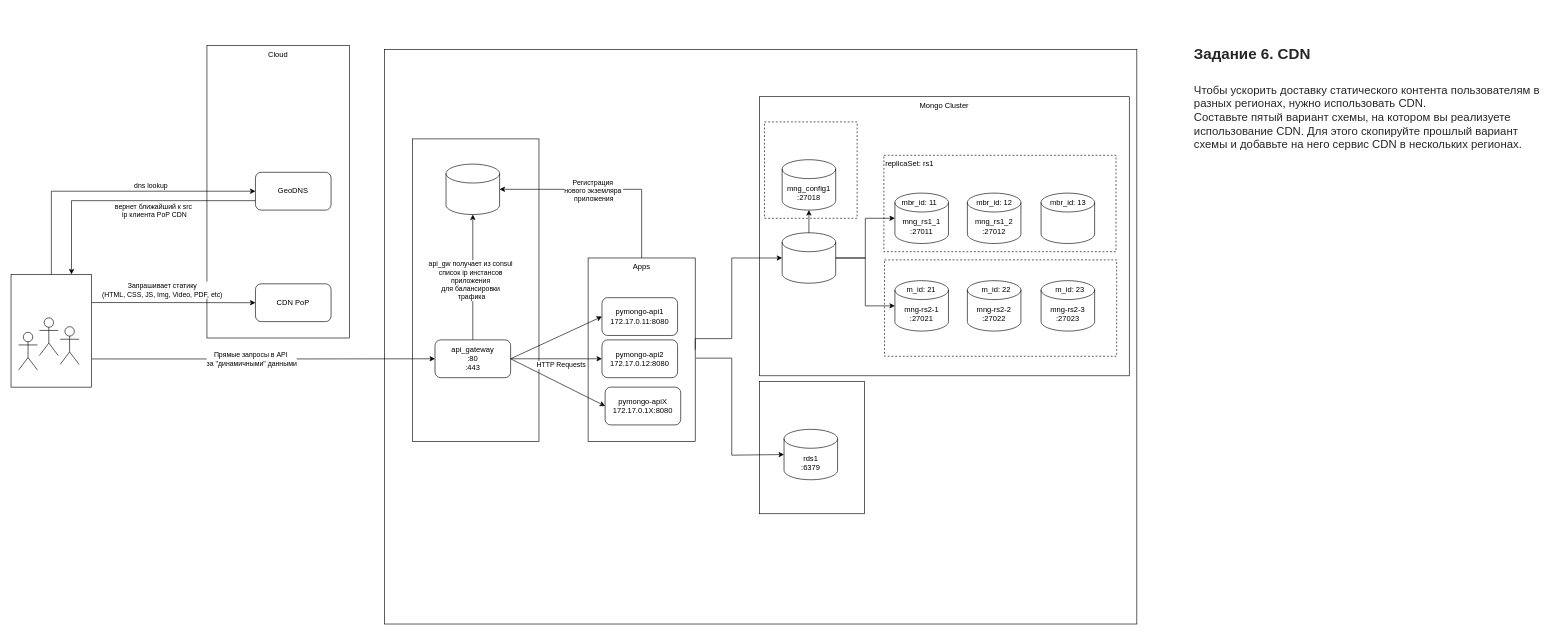
Image size: 1557x635. Some labels were removed from this diagram. The shapes that lost their labels are listed below. From the top down, each one's box as (x1, y1, x2, y2) in pixels, then its label:
(445, 163, 500, 215): consul1 :850[0-3]
(764, 121, 857, 218): replicaSet: config_server
(1040, 192, 1095, 243): mng_rs1_3 :27013
(782, 232, 836, 283): mng_router1 :27017
(412, 138, 539, 441): LB
(884, 259, 1117, 356): replicaSet: rs2
(10, 274, 92, 387): Users
(384, 49, 1137, 624): On Prem App
(759, 381, 865, 514): Redis
